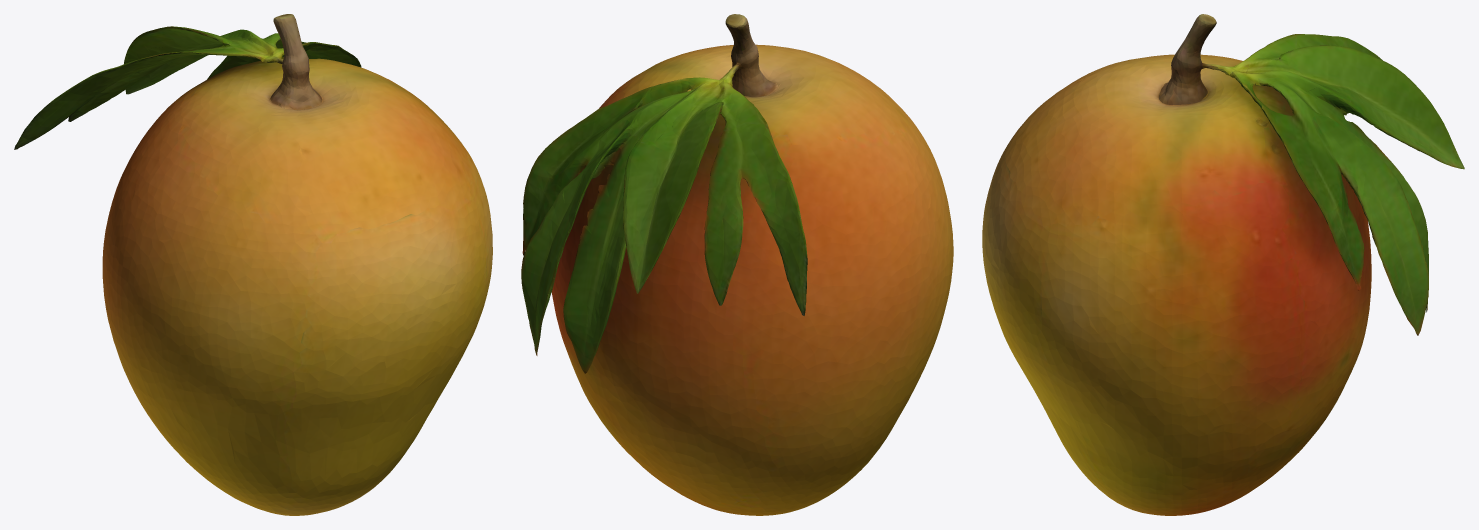
The model's file is mango.glb.
3 views of the same model, side by side, from view 1: azimuth 30°, elevation 25°; view 2: azimuth 150°, elevation 25°; view 3: azimuth 270°, elevation 25° (orthographic). The views are drawn at different scales.
Visible parts, largest first — view 1: world; view 2: world; view 3: world.
Boxes of the visible parts, x1,y1,x2,y2 form: world: [14, 14, 492, 515]; world: [521, 14, 953, 515]; world: [982, 14, 1464, 515].
Size of the model in its own units: 0.745 by 1 by 0.9018.
1 material, 1 textured.
